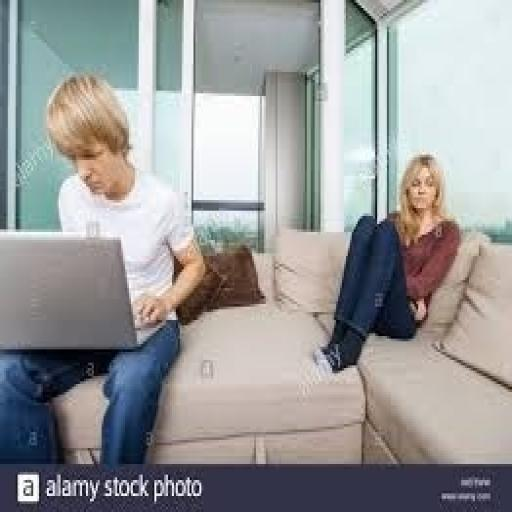using_laptop: (0, 227, 166, 352)
